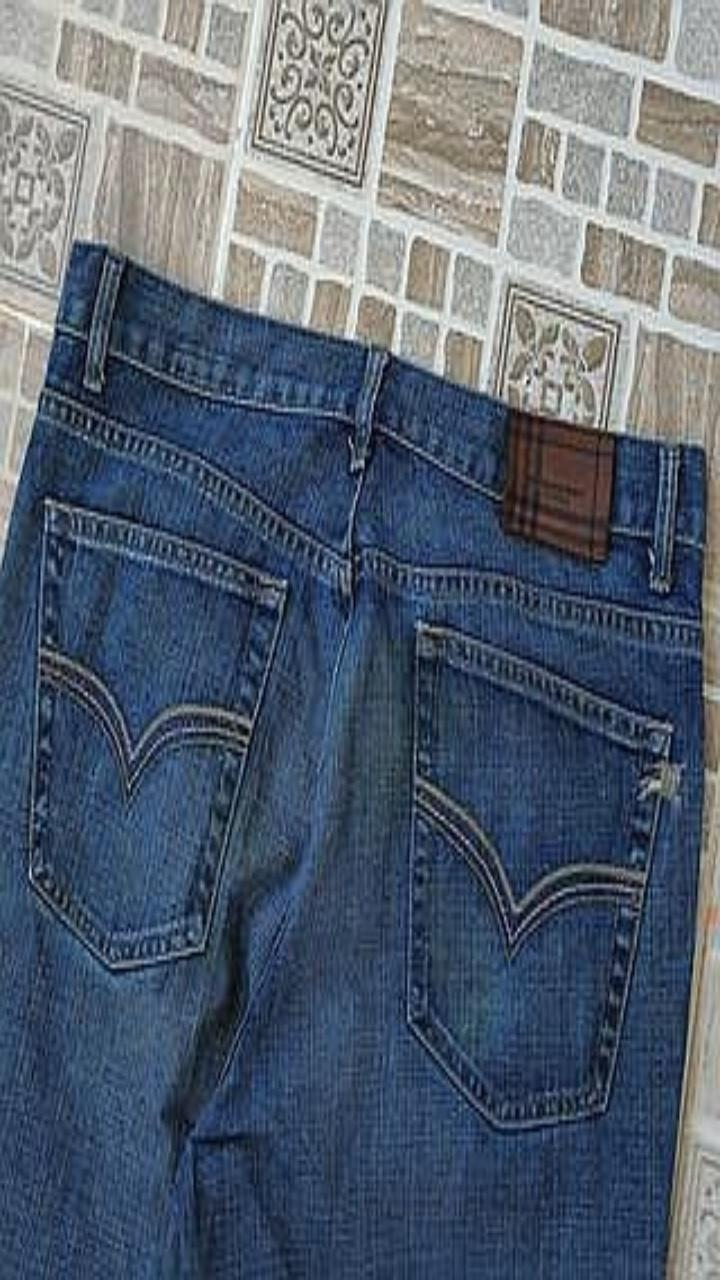Shorts: (0, 241, 705, 1279)
